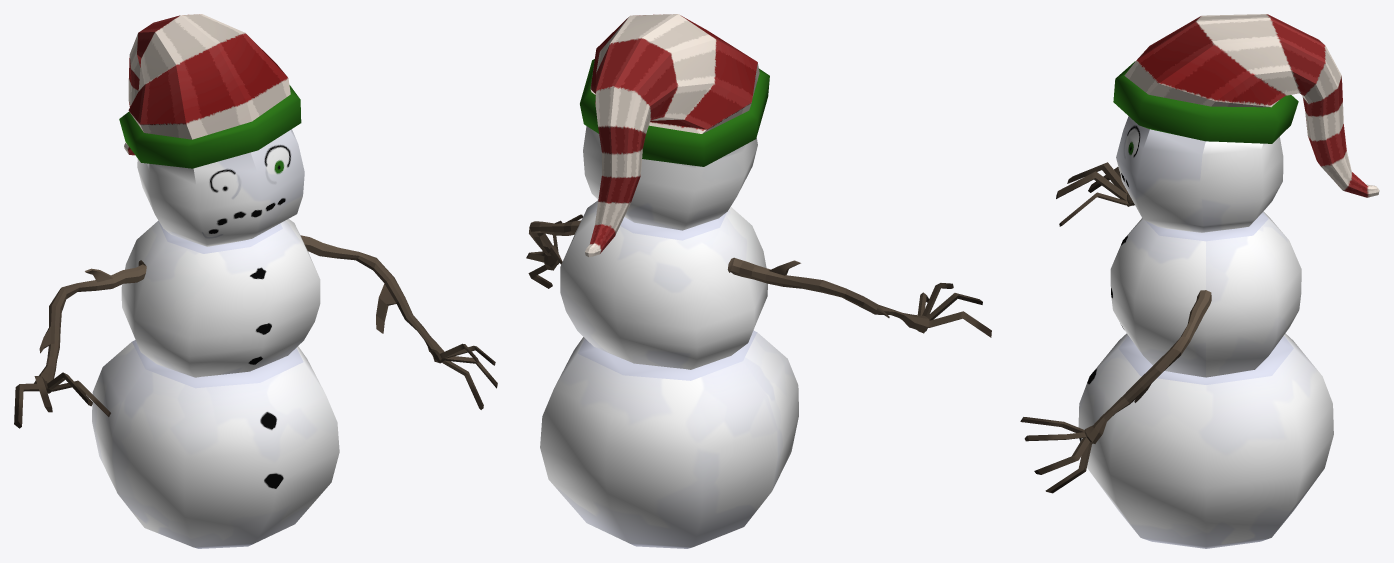
Rendered from CN_DeadSnowman1.fbx.
3 renders of one model, left to right at view 1: azimuth 30°, elevation 25°; view 2: azimuth 150°, elevation 25°; view 3: azimuth 270°, elevation 25°, orthographic. The views are drawn at different scales.
Parts seen in each view (by area): view 1: SnowMan_Mound_Bottom, snowman_head, Snowman_Mound_Middle, polySurface2, polySurface1; view 2: SnowMan_Mound_Bottom, snowman_head, Snowman_Mound_Middle, polySurface2, polySurface1; view 3: SnowMan_Mound_Bottom, snowman_head, Snowman_Mound_Middle, polySurface1, polySurface2.
Boxes of the visible parts, bbox=[...] form: SnowMan_Mound_Bottom: bbox=[92, 340, 339, 548]; snowman_head: bbox=[119, 14, 304, 246]; Snowman_Mound_Middle: bbox=[121, 219, 320, 377]; polySurface2: bbox=[14, 260, 146, 428]; polySurface1: bbox=[300, 235, 497, 409]; SnowMan_Mound_Bottom: bbox=[540, 330, 798, 548]; snowman_head: bbox=[580, 14, 769, 257]; Snowman_Mound_Middle: bbox=[560, 200, 767, 369]; polySurface2: bbox=[727, 257, 991, 337]; polySurface1: bbox=[526, 214, 582, 288]; SnowMan_Mound_Bottom: bbox=[1078, 333, 1333, 548]; snowman_head: bbox=[1113, 14, 1379, 232]; Snowman_Mound_Middle: bbox=[1110, 211, 1301, 377]; polySurface1: bbox=[1020, 290, 1211, 493]; polySurface2: bbox=[1056, 162, 1134, 226].
Bounding box in the file's own units: 298 × 307 × 196.
